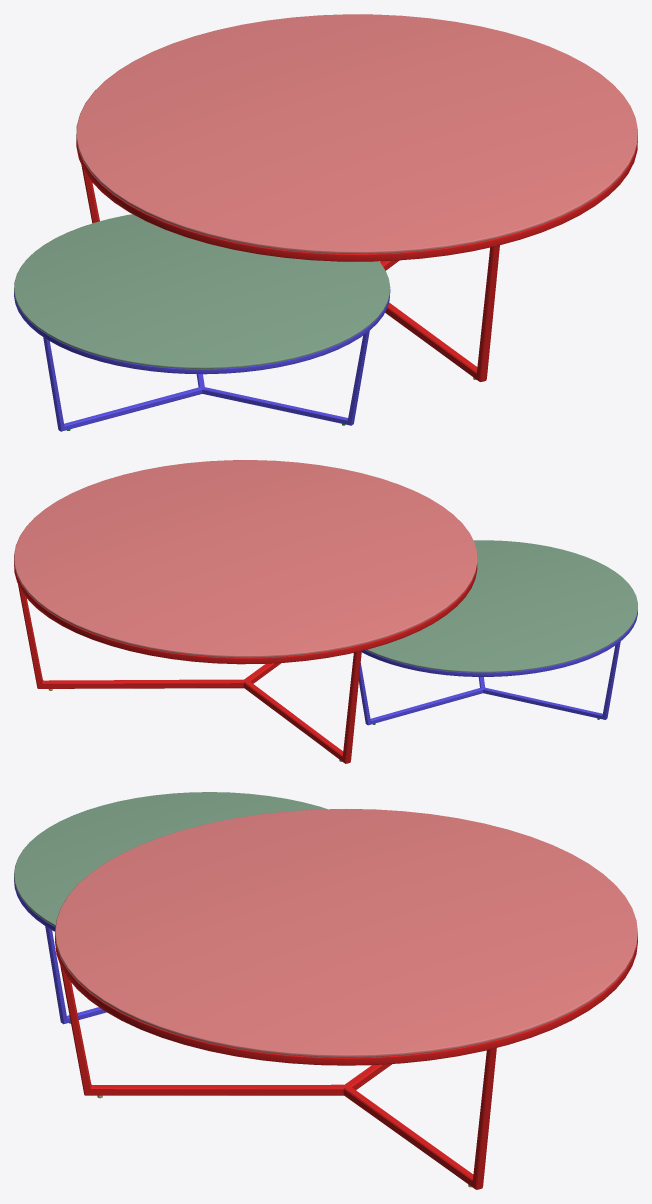
Rendered from MARBLE TABLE.FBX.
The picture shows the model from 3 angles, top to bottom: view 1: azimuth 30°, elevation 25°; view 2: azimuth 150°, elevation 25°; view 3: azimuth 270°, elevation 25°; orthographic projection. The views are drawn at different scales.
Parts seen in each view (by area): view 1: Group007; view 2: Group007; view 3: Group007.
Boxes of the visible parts, x1,y1,x2,y2 form: Group007: (14, 14, 637, 431); Group007: (14, 460, 637, 763); Group007: (14, 792, 637, 1189).
Size of the model in its own units: 126 by 30.54 by 104.
